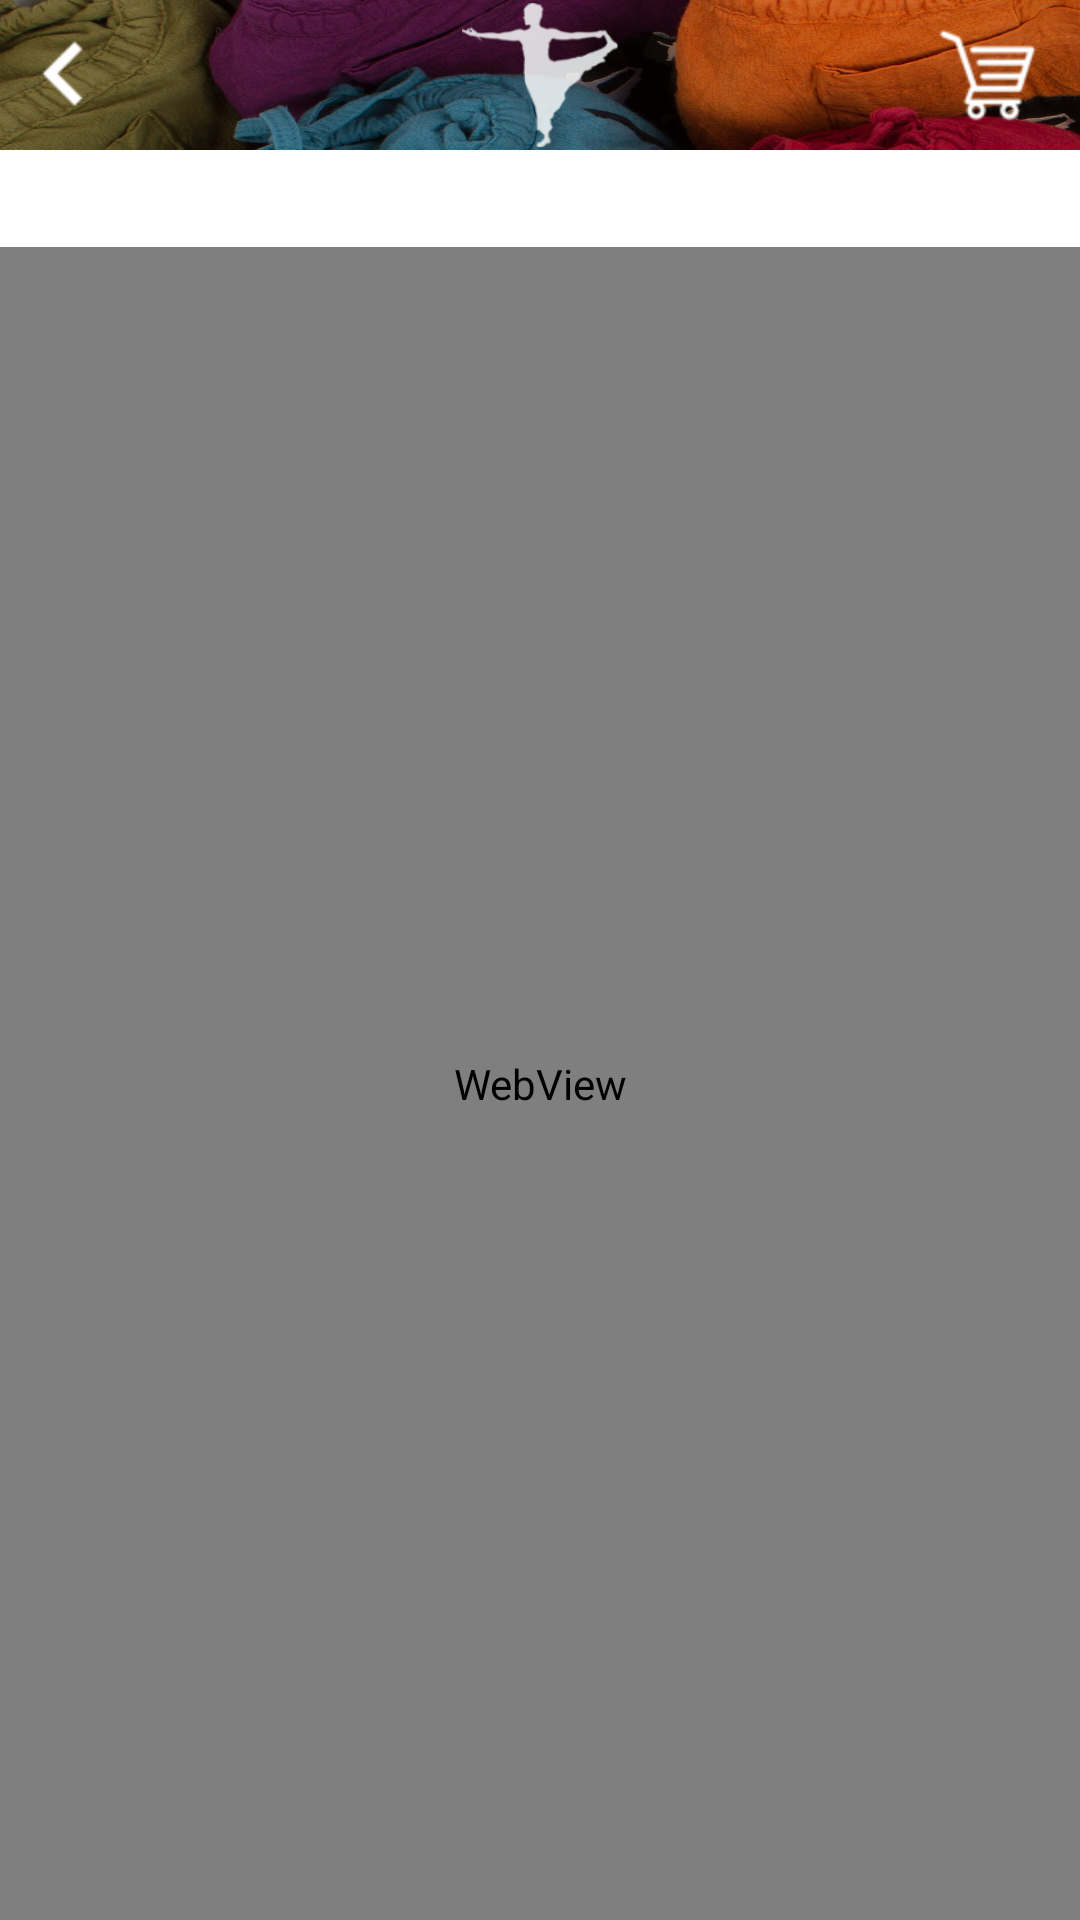

Where to tap for icons on this 1080 × 1920 app screen, as point (x, y):
addcart: point (987, 75)
back arrow: point (64, 75)
